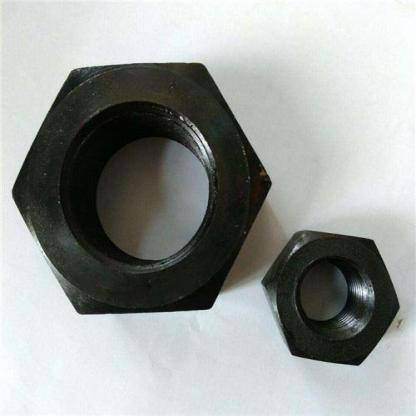FOD: (8, 59, 273, 319), (259, 226, 406, 370)
